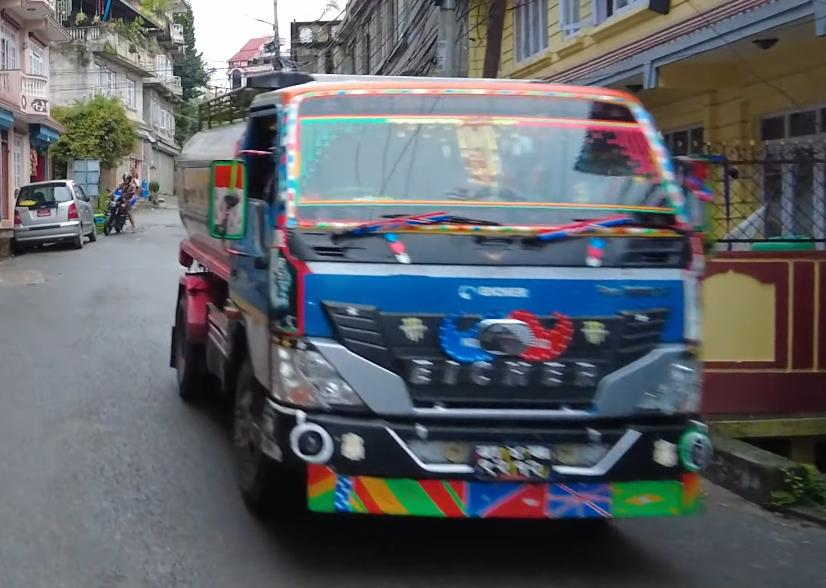bike: (92, 168, 147, 240)
car: (14, 160, 96, 264)
mini_truck: (154, 61, 719, 545)
